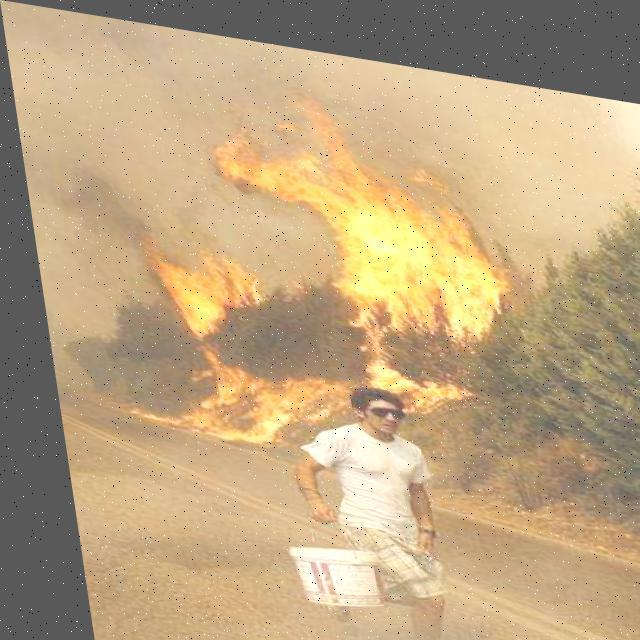Fire: (120, 74, 512, 474)
